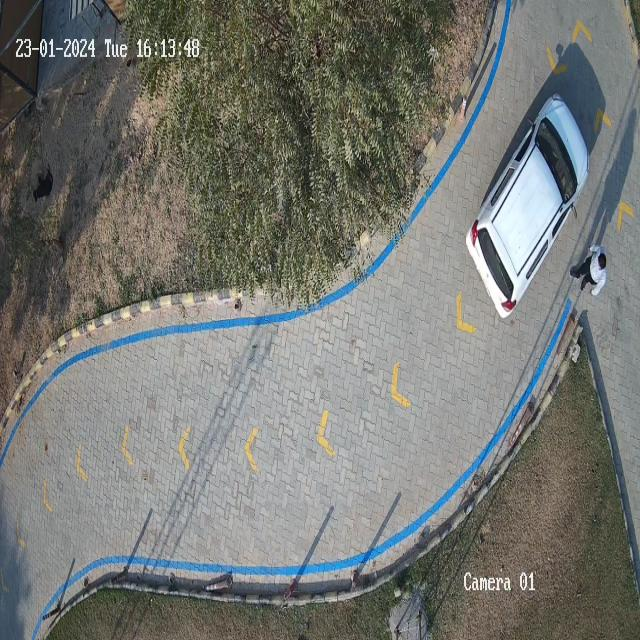car: (466, 93, 589, 317)
